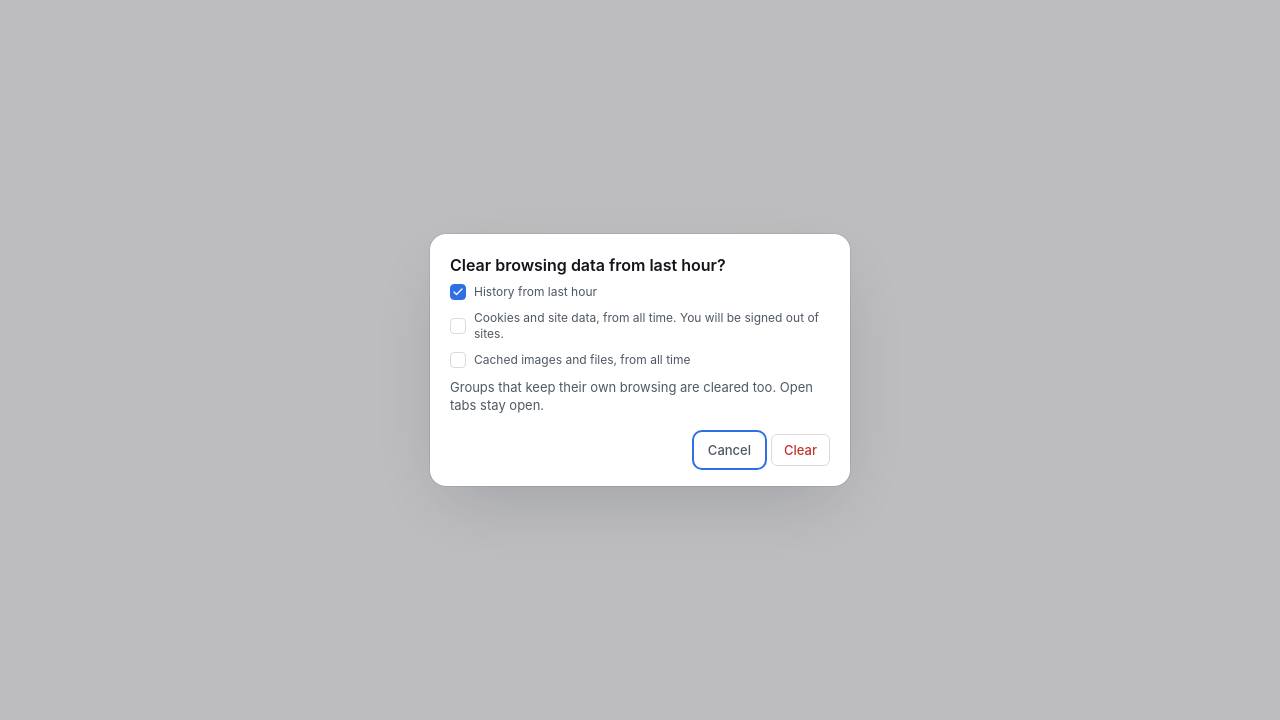
it: the clear browsing data dialog › cannot be confirmed with nothing ticked
Click the checkbox named "History from last hour" next to "History from last hour" at (458,292), box x1=450 y1=284 x2=466 y2=300
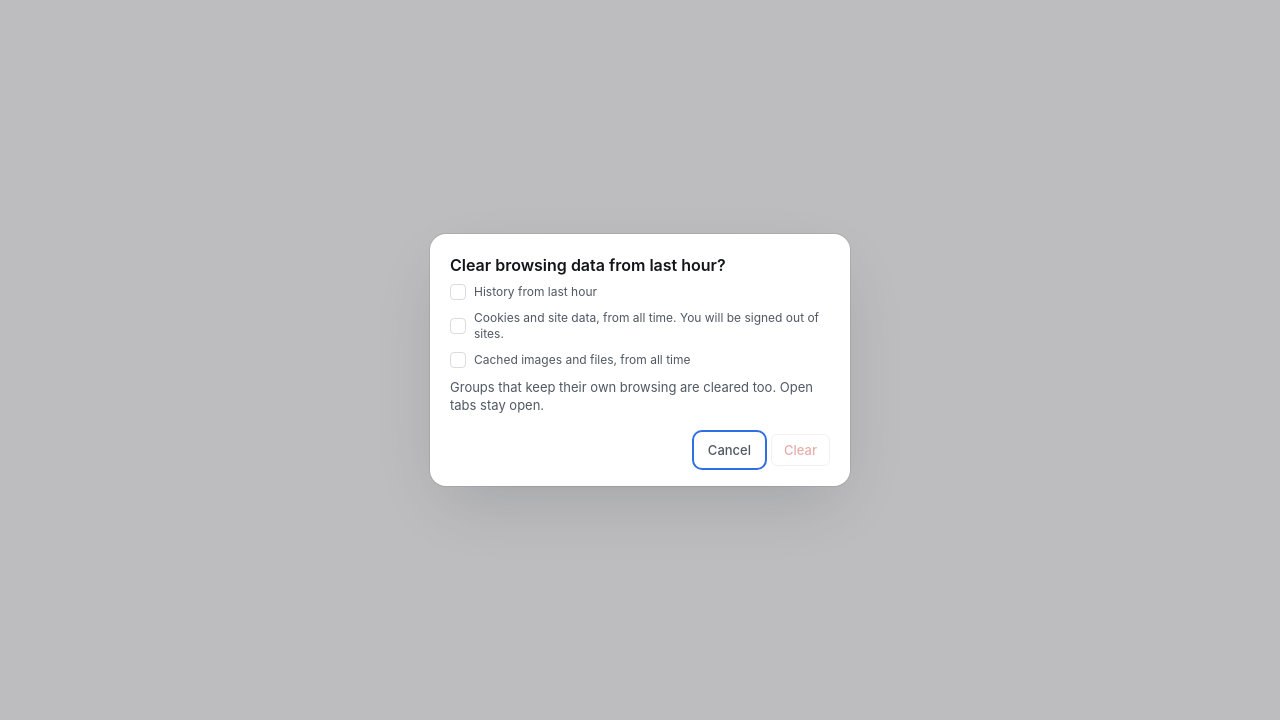
Expected: the button "Clear" is disabled, x1=771 y1=434 x2=830 y2=466
